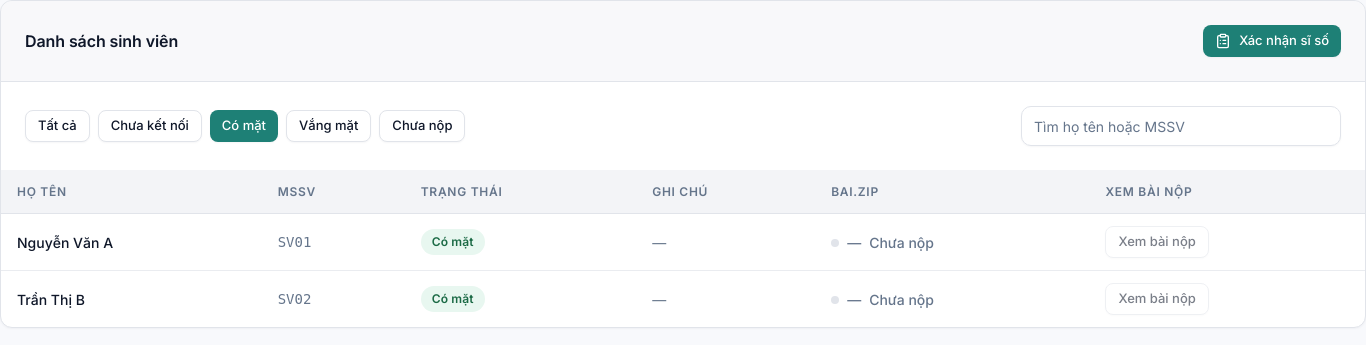
Test: LobbyRosterTable — search › filters by name and combines with present filter
In the search field labelled "Tìm họ tên hoặc MSSV": (1181, 126) [1021,106,1341,146], type "Nguyễn"
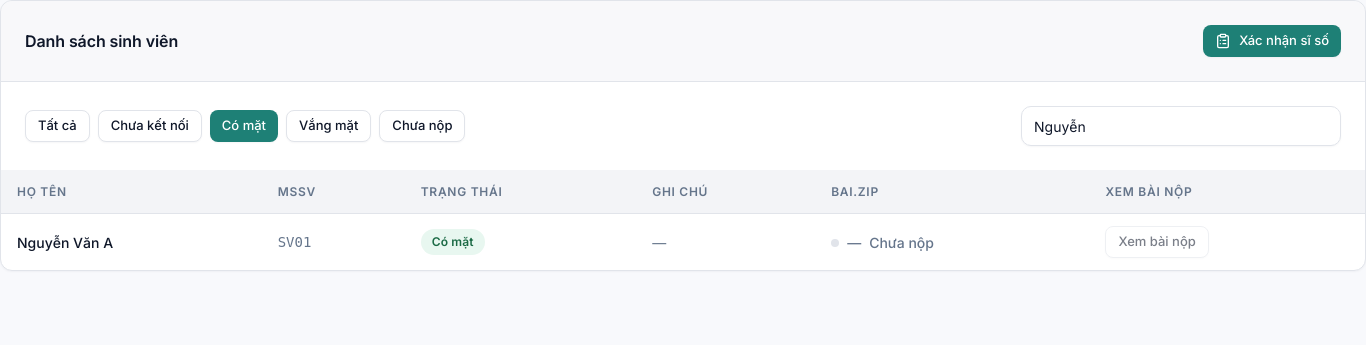
Expected: the text "Nguyễn Văn A" is shown, [1,214,262,270]
Now the text "Trần Thị B" is gone
